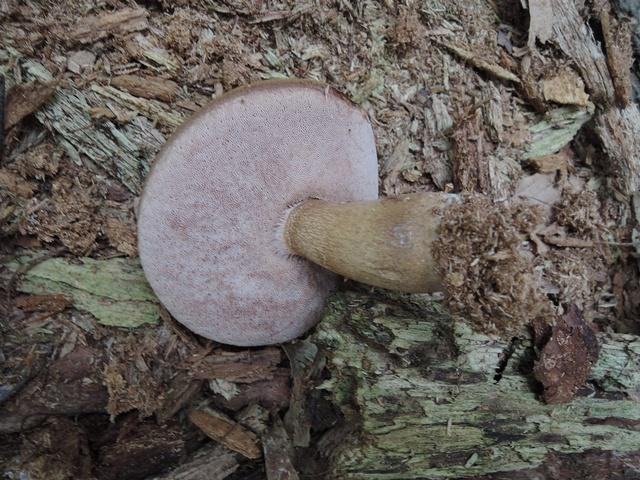Non-edible Mushroom: (134, 76, 558, 365)
